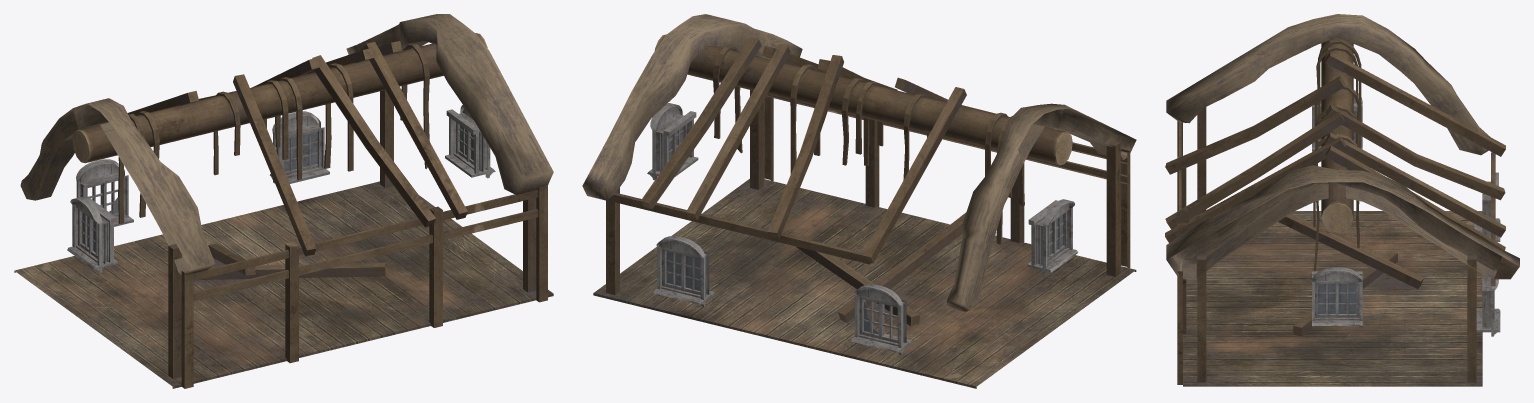
Rendered from FileneHouseATop_Top.fbx.
3 renders of one model, left to right at view 1: azimuth 30°, elevation 25°; view 2: azimuth 150°, elevation 25°; view 3: azimuth 270°, elevation 25°, orthographic. The views are drawn at different scales.
Parts seen in each view (by area): view 1: FileneHouseATop_Top; view 2: FileneHouseATop_Top; view 3: FileneHouseATop_Top.
Boxes of the visible parts, bbox=[...] form: FileneHouseATop_Top: bbox=[14, 14, 553, 388]; FileneHouseATop_Top: bbox=[582, 14, 1136, 388]; FileneHouseATop_Top: bbox=[1165, 14, 1519, 386].
Size of the model in its own units: 1144 by 598 by 926.
Materials: 1 (1 with a texture image).
